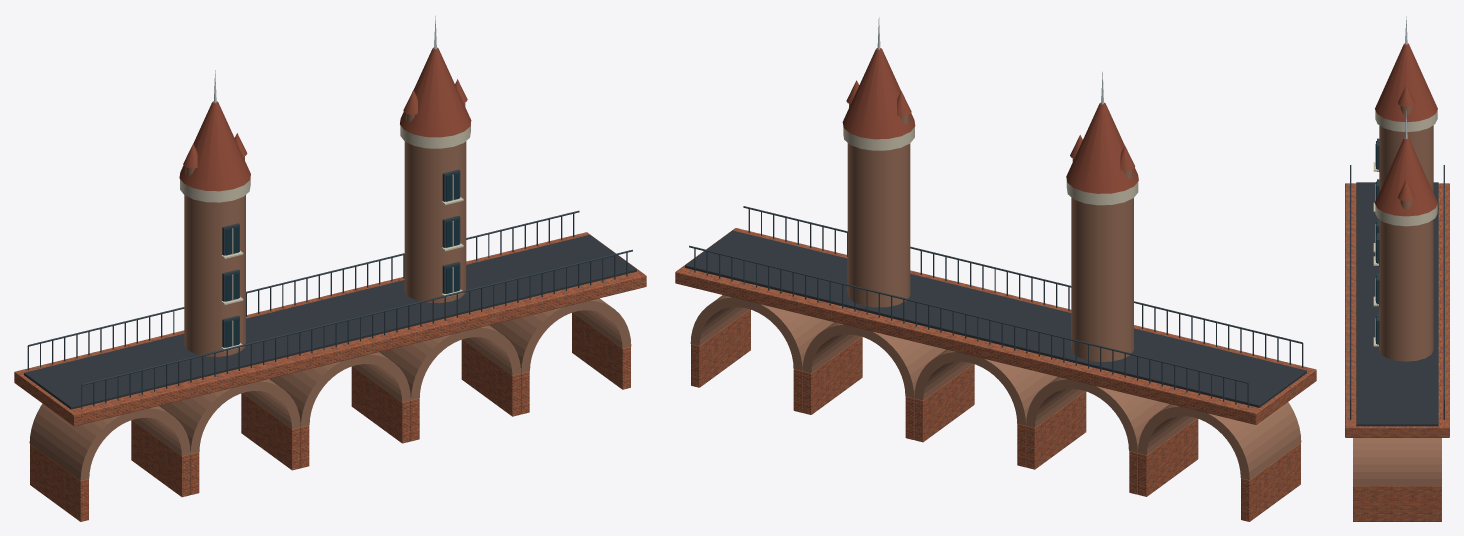
File: oberbaum-bridge.glb
The picture shows the model from 3 angles, left to right: view 1: azimuth 30°, elevation 25°; view 2: azimuth 150°, elevation 25°; view 3: azimuth 270°, elevation 25°; orthographic projection. The views are drawn at different scales.
Visible parts, largest first — view 1: DC_Mesh_DC_Brick, DC_Mesh_DC_Asphalt, DC_Mesh_DC_Terracotta, DC_Mesh_DC_Steel, DC_Mesh_DC_Ivory, DC_Mesh_DC_BlueGlass; view 2: DC_Mesh_DC_Brick, DC_Mesh_DC_Asphalt, DC_Mesh_DC_Terracotta, DC_Mesh_DC_Steel, DC_Mesh_DC_Ivory; view 3: DC_Mesh_DC_Brick, DC_Mesh_DC_Asphalt, DC_Mesh_DC_Terracotta, DC_Mesh_DC_Ivory, DC_Mesh_DC_Steel, DC_Mesh_DC_BlueGlass.
Boxes of the visible parts, box(x1,y1,x2,y2) form: DC_Mesh_DC_Brick: box(14, 102, 646, 521); DC_Mesh_DC_Asphalt: box(24, 235, 636, 409); DC_Mesh_DC_Terracotta: box(179, 47, 471, 191); DC_Mesh_DC_Steel: box(27, 169, 632, 409); DC_Mesh_DC_Ivory: box(180, 124, 470, 351); DC_Mesh_DC_BlueGlass: box(225, 173, 459, 347); DC_Mesh_DC_Brick: box(675, 104, 1316, 521); DC_Mesh_DC_Asphalt: box(685, 230, 1306, 407); DC_Mesh_DC_Terracotta: box(842, 48, 1138, 193); DC_Mesh_DC_Steel: box(689, 206, 1303, 407); DC_Mesh_DC_Ivory: box(843, 127, 1138, 205); DC_Mesh_DC_Brick: box(1345, 106, 1449, 521); DC_Mesh_DC_Asphalt: box(1356, 182, 1438, 426); DC_Mesh_DC_Terracotta: box(1375, 43, 1437, 216); DC_Mesh_DC_Ivory: box(1373, 110, 1437, 346); DC_Mesh_DC_Steel: box(1350, 138, 1444, 419); DC_Mesh_DC_BlueGlass: box(1376, 141, 1376, 343).
Bounding box in the file's own units: 26 × 17 × 4.7.
7 materials, 1 textured.
